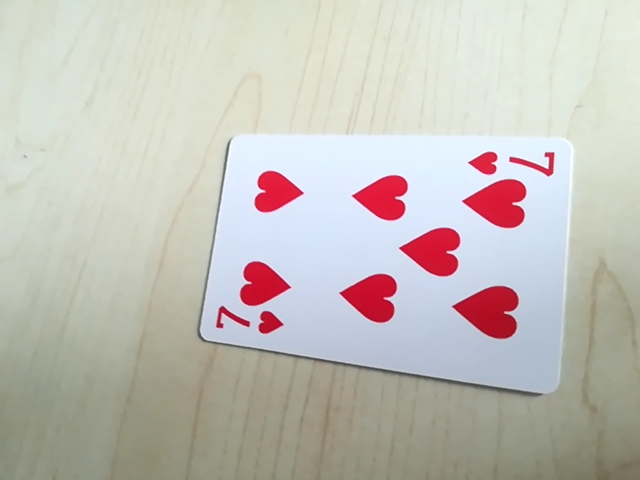hx 7: (464, 142, 560, 181), (213, 307, 289, 340)
